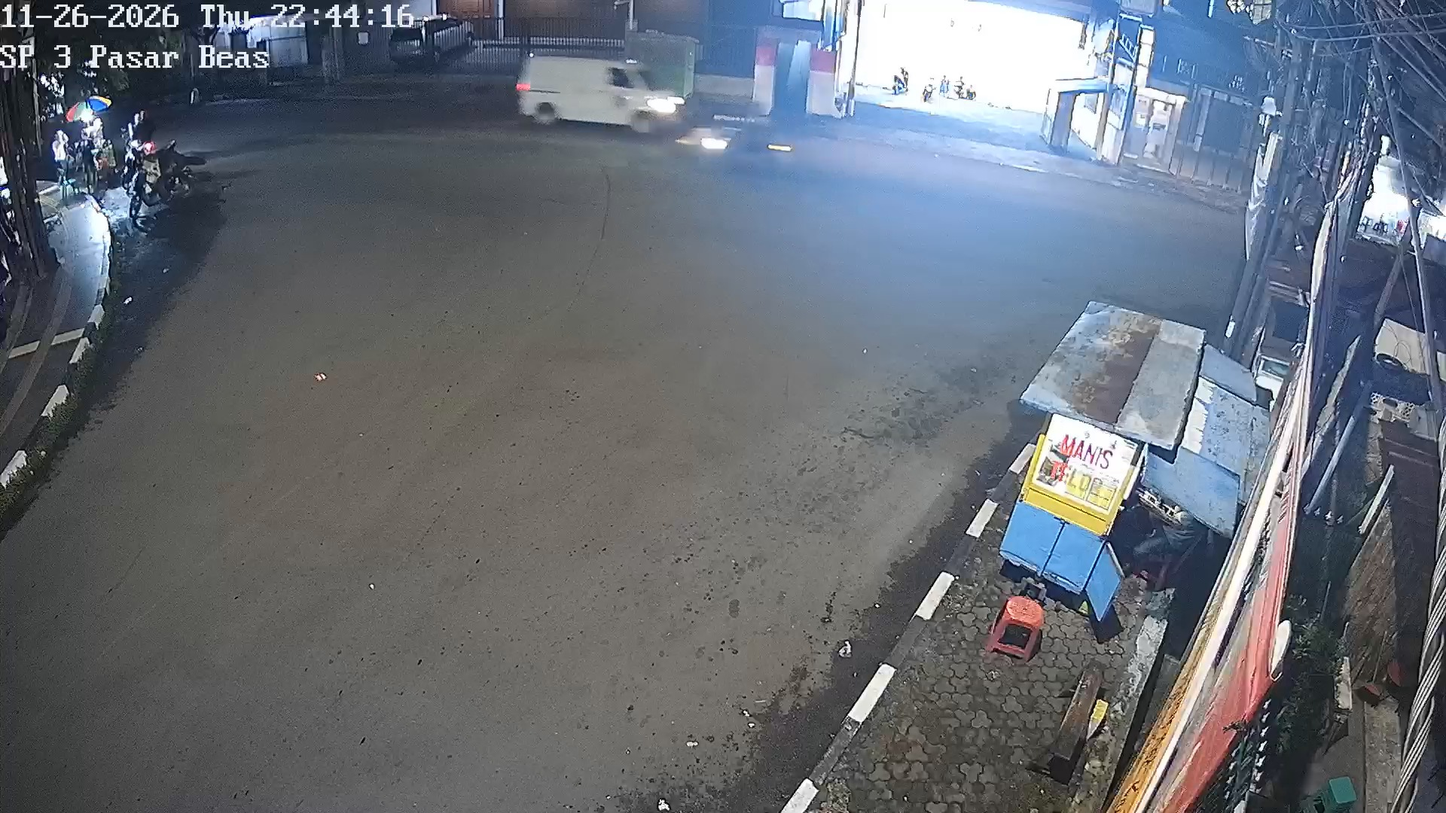Gerobak: (996, 301, 1275, 622)
